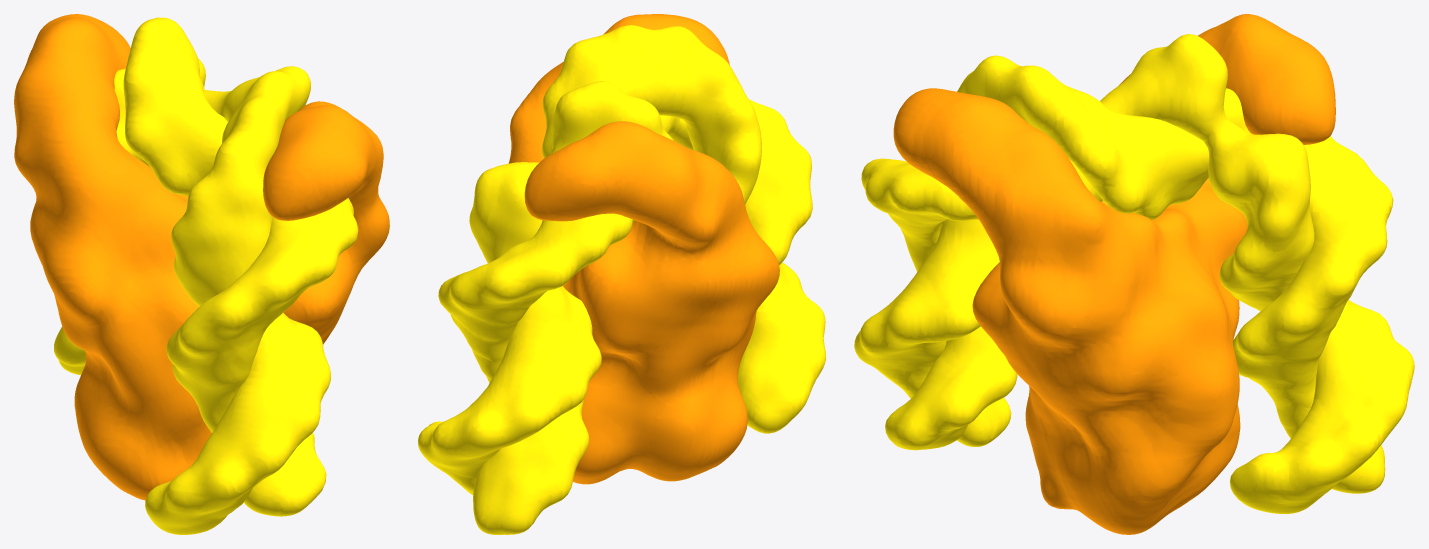
Rendered from HU_Protien.fbx.
3 views of the same model, side by side, from view 1: azimuth 30°, elevation 25°; view 2: azimuth 150°, elevation 25°; view 3: azimuth 270°, elevation 25° (orthographic). The views are drawn at different scales.
Visible parts, largest first — view 1: CoarseMS_1ihf_protien, CoarseMS_1ihf_DNA1, CoarseMS_1ihf_DNA2; view 2: CoarseMS_1ihf_protien, CoarseMS_1ihf_DNA1, CoarseMS_1ihf_DNA2; view 3: CoarseMS_1ihf_protien, CoarseMS_1ihf_DNA2, CoarseMS_1ihf_DNA1.
Part boxes in pixels (x1,y1,x2,y2): CoarseMS_1ihf_protien: (14, 14, 389, 500); CoarseMS_1ihf_DNA1: (54, 66, 330, 534); CoarseMS_1ihf_DNA2: (123, 17, 358, 516); CoarseMS_1ihf_protien: (508, 14, 779, 484); CoarseMS_1ihf_DNA1: (438, 25, 825, 534); CoarseMS_1ihf_DNA2: (418, 81, 812, 494); CoarseMS_1ihf_protien: (893, 14, 1335, 534); CoarseMS_1ihf_DNA2: (861, 34, 1414, 513); CoarseMS_1ihf_DNA1: (854, 55, 1393, 493).
Size of the model in its own units: 42.84 by 60.65 by 66.08.
